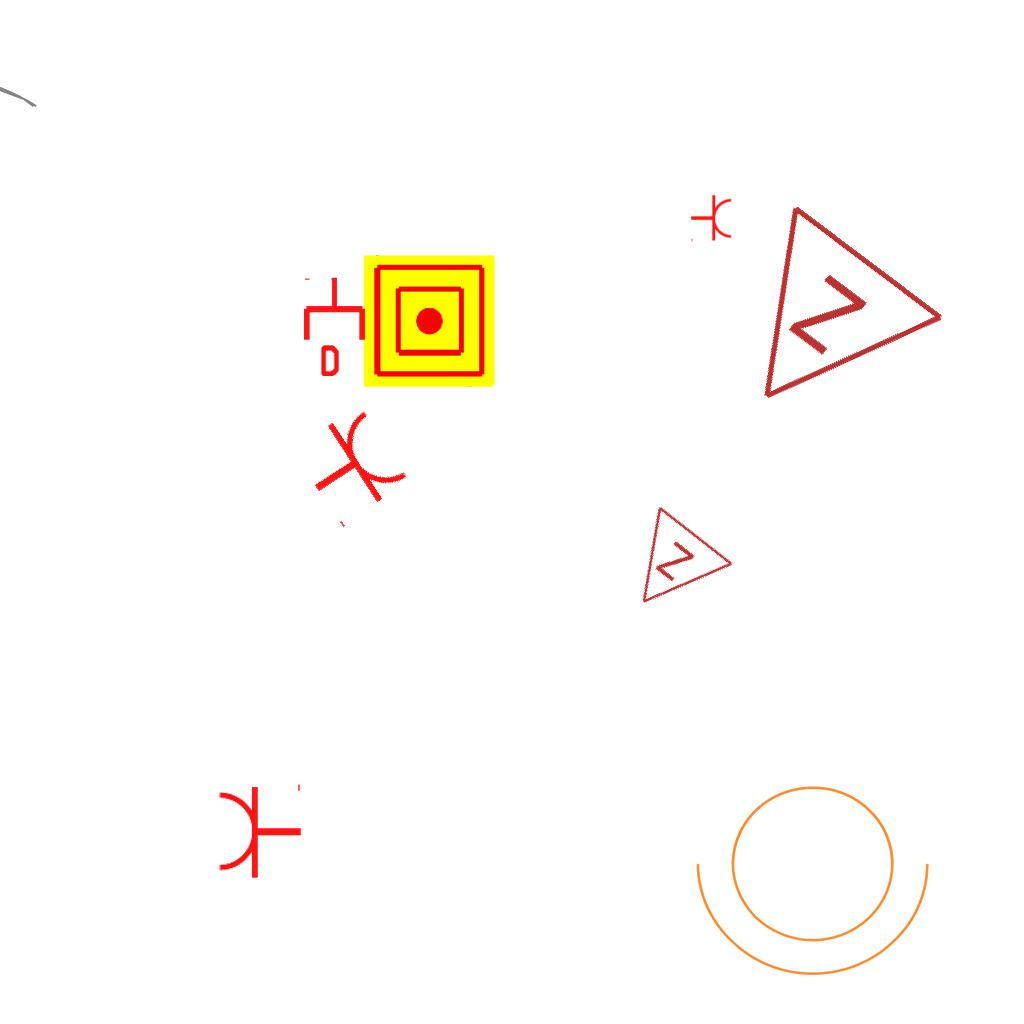Datenanschluss_einfach: (300, 276, 369, 376)
NAM-Nichtautomatischer_Melder: (363, 255, 495, 387)
Scheinwerfer_fuer_Alarmbeleuchtung: (687, 761, 951, 986)
Schukosteckdose_einfach: (288, 401, 417, 533), (216, 780, 303, 880), (690, 194, 733, 244)
Zimmersignalleuchte: (681, 191, 959, 469), (601, 499, 741, 639)
